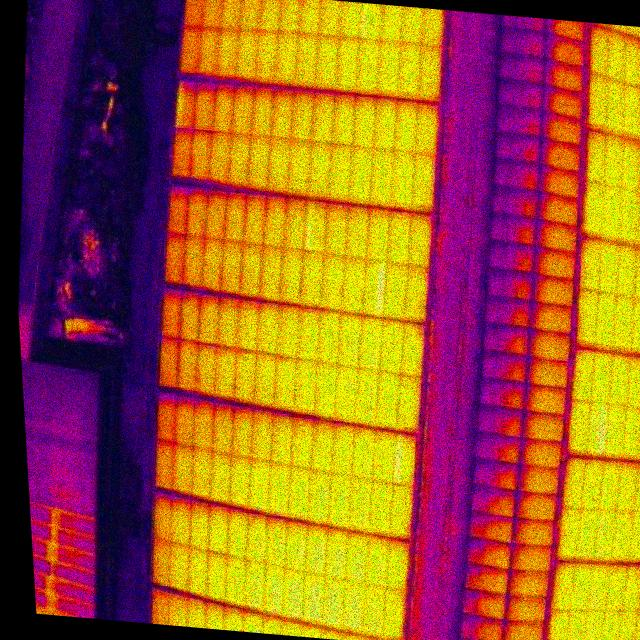Diode: (354, 254, 393, 321), (296, 198, 334, 256), (579, 399, 616, 457), (387, 430, 422, 490), (168, 76, 202, 134)
Normal: (283, 86, 321, 144), (243, 408, 281, 463)
